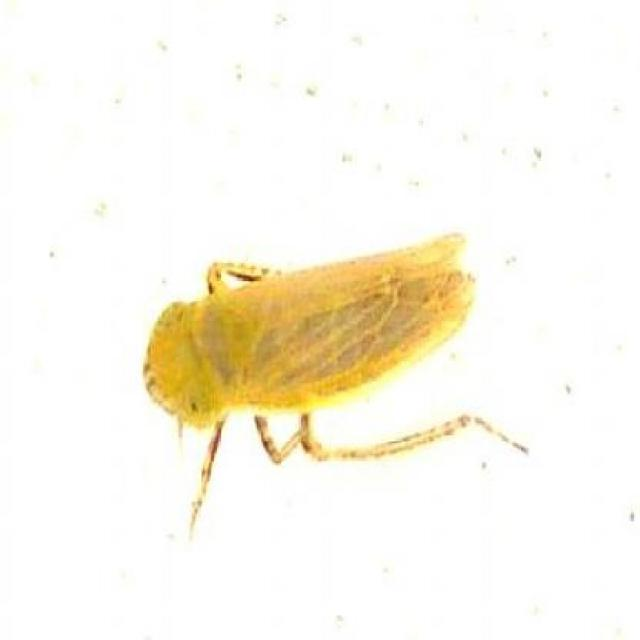green-leafhopper: (146, 204, 523, 518)
